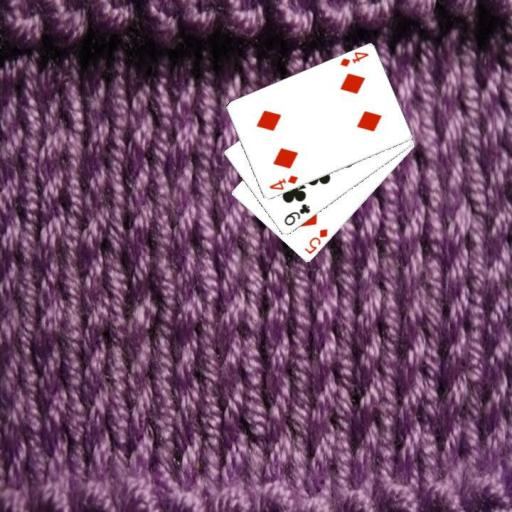4D: (266, 172, 299, 192), (336, 49, 370, 68)
5D: (302, 225, 329, 256)
9C: (281, 201, 311, 228)
